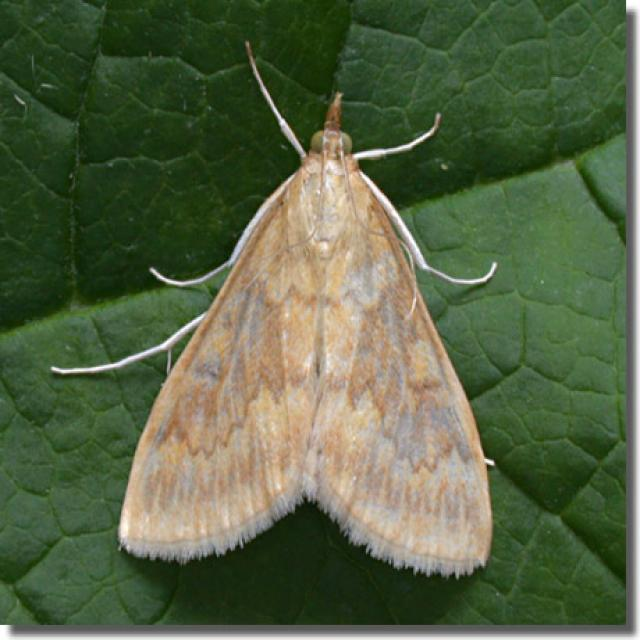cornborer-Adult-: (67, 36, 526, 590)
